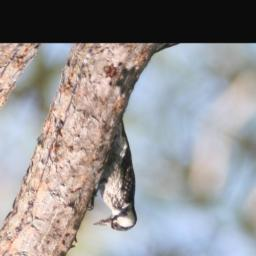Woodpecker: (74, 113, 177, 244)
